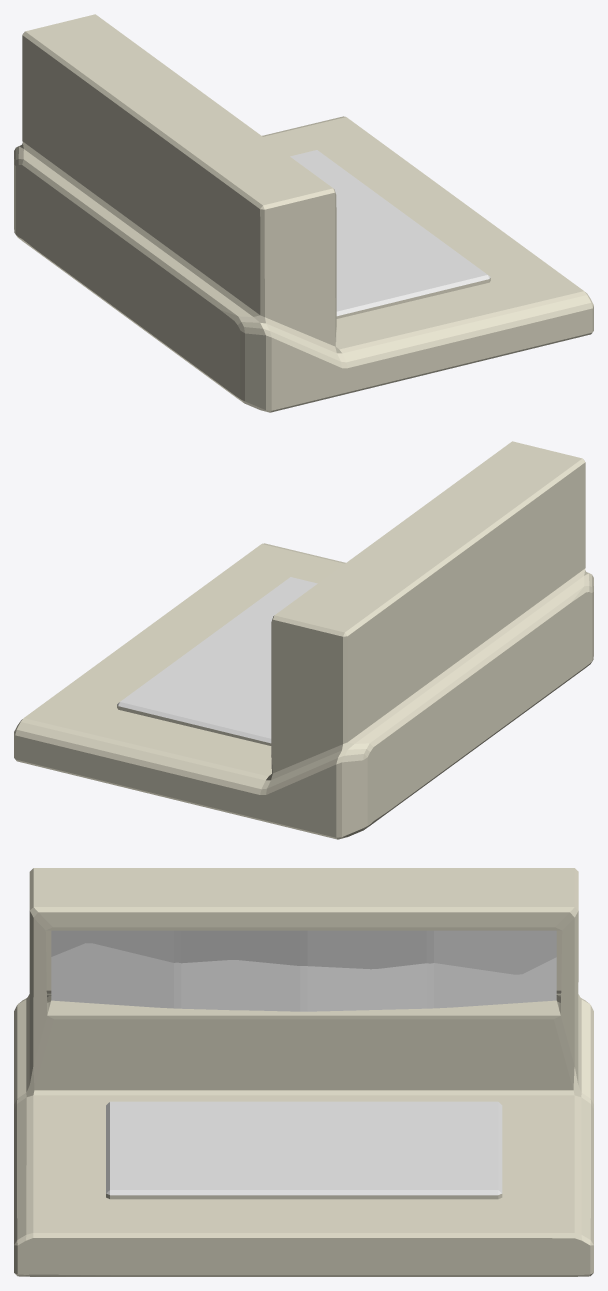
The model's file is RAWOldTVmadeScanner 1.fbx.
The picture shows the model from 3 angles, top to bottom: view 1: azimuth 30°, elevation 25°; view 2: azimuth 150°, elevation 25°; view 3: azimuth 270°, elevation 25°; orthographic projection. The views are drawn at different scales.
Visible parts, largest first — view 1: Cube; view 2: Cube; view 3: Cube.
Part boxes in pixels (x1,y1,x2,y2): Cube: [14, 14, 593, 412]; Cube: [14, 441, 593, 839]; Cube: [14, 868, 593, 1276].
Size of the model in its own units: 163 by 92.69 by 211.
